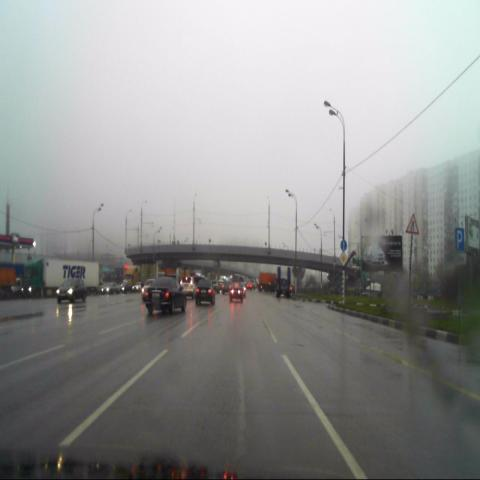1_20_3: (406, 213, 418, 234)
